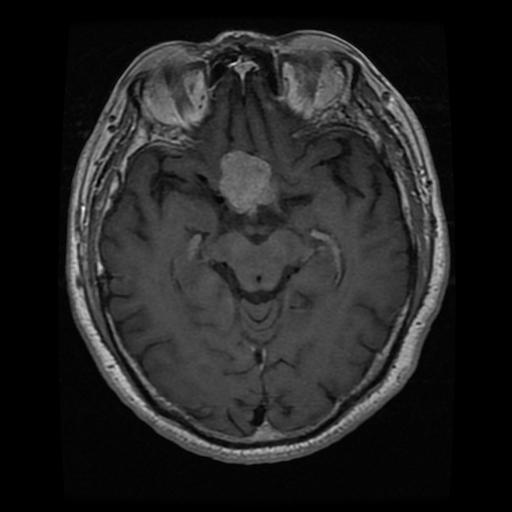Pituirity_tumour: (219, 149, 272, 213)
